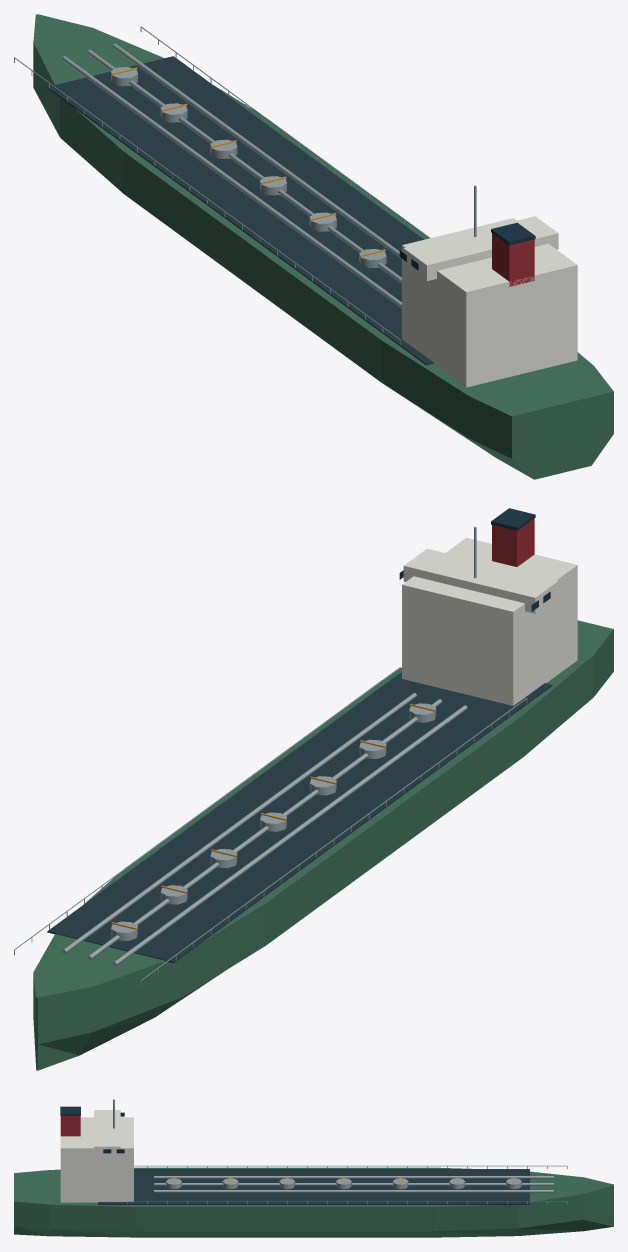
File: tanker.glb
3 renders of one model, top to bottom at view 1: azimuth 30°, elevation 25°; view 2: azimuth 150°, elevation 25°; view 3: azimuth 270°, elevation 25°, orthographic. The views are drawn at different scales.
Visible parts, largest first — view 1: tanker-material-6, tanker-material-3, tanker-material-2, tanker-material-7, tanker-material-0, tanker-material-1; view 2: tanker-material-6, tanker-material-3, tanker-material-2, tanker-material-7, tanker-material-0, tanker-material-1; view 3: tanker-material-6, tanker-material-3, tanker-material-2, tanker-material-7, tanker-material-0, tanker-material-1.
Boxes of the visible parts, x1,y1,x2,y2 form: tanker-material-6: [33, 14, 613, 479]; tanker-material-3: [47, 56, 433, 365]; tanker-material-2: [402, 216, 577, 387]; tanker-material-7: [14, 26, 476, 345]; tanker-material-0: [492, 233, 534, 286]; tanker-material-1: [399, 222, 535, 270]; tanker-material-6: [33, 620, 613, 1070]; tanker-material-3: [47, 672, 552, 963]; tanker-material-2: [402, 537, 577, 705]; tanker-material-7: [14, 526, 527, 985]; tanker-material-0: [492, 518, 534, 566]; tanker-material-1: [399, 508, 550, 611]; tanker-material-6: [14, 1167, 613, 1237]; tanker-material-3: [98, 1169, 529, 1204]; tanker-material-2: [60, 1110, 133, 1202]; tanker-material-7: [113, 1099, 567, 1204]; tanker-material-0: [60, 1115, 80, 1136]; tanker-material-1: [60, 1106, 124, 1153].
Bounding box in the file's own units: 28 × 42 × 180.
